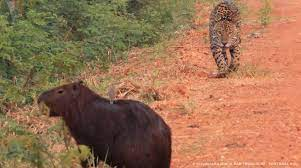capivara: (37, 78, 176, 168)
